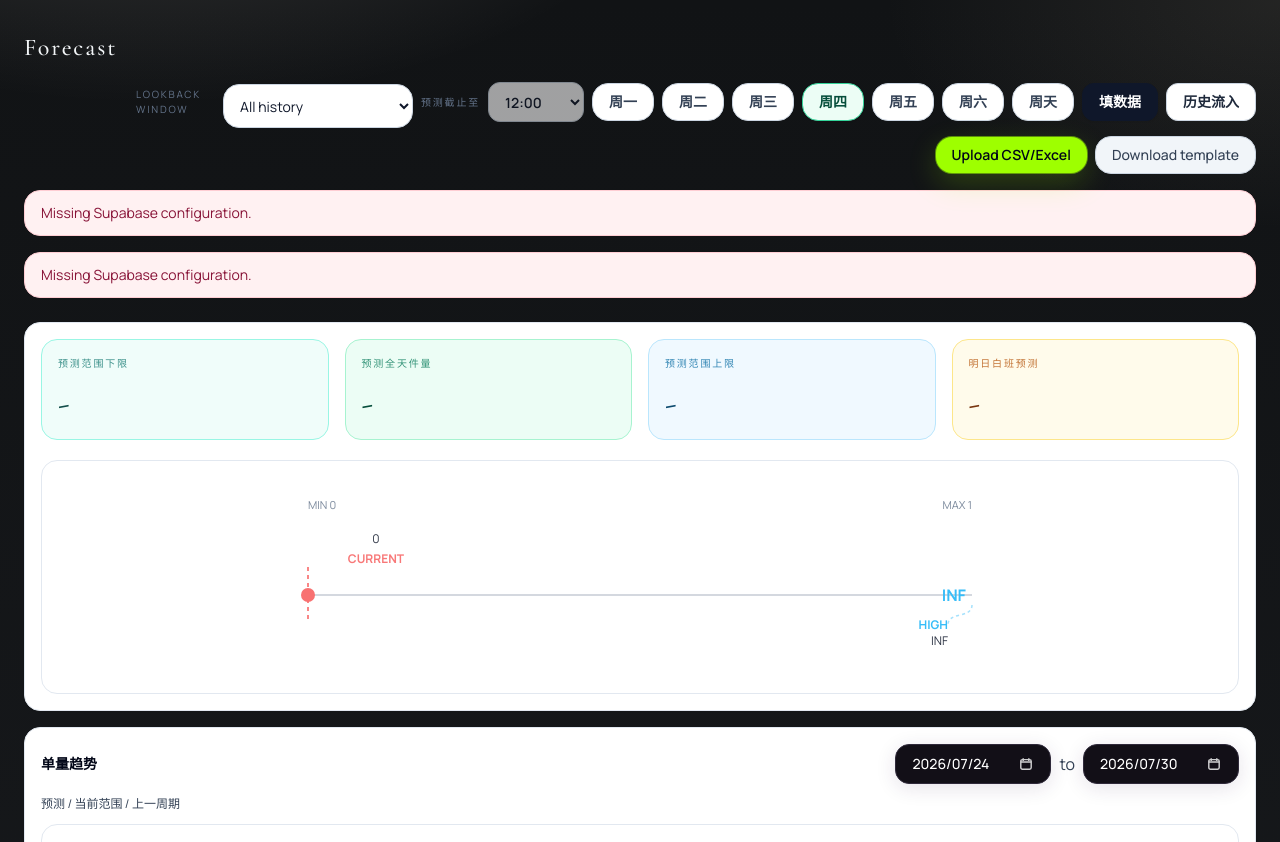
ForecastPage outbound report import › selecting a date shows its week and highlights that day
Step 1. Click the button "填数据" → point(1120, 102), box top-left (1082, 83), bottom-right (1158, 121)
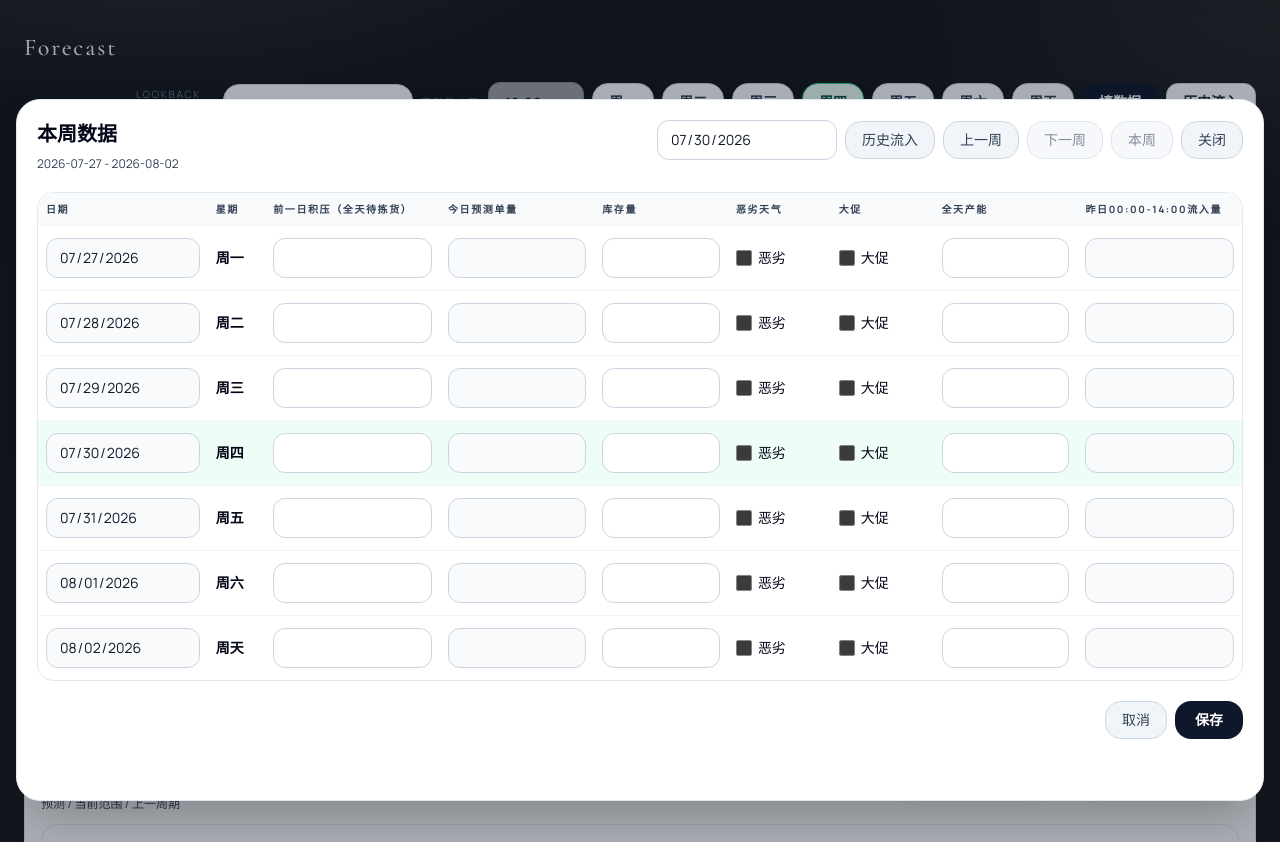
Step 2. Type "2026-05-14" into the date field named "选择日期" → point(747, 140), box top-left (657, 120), bottom-right (837, 160)
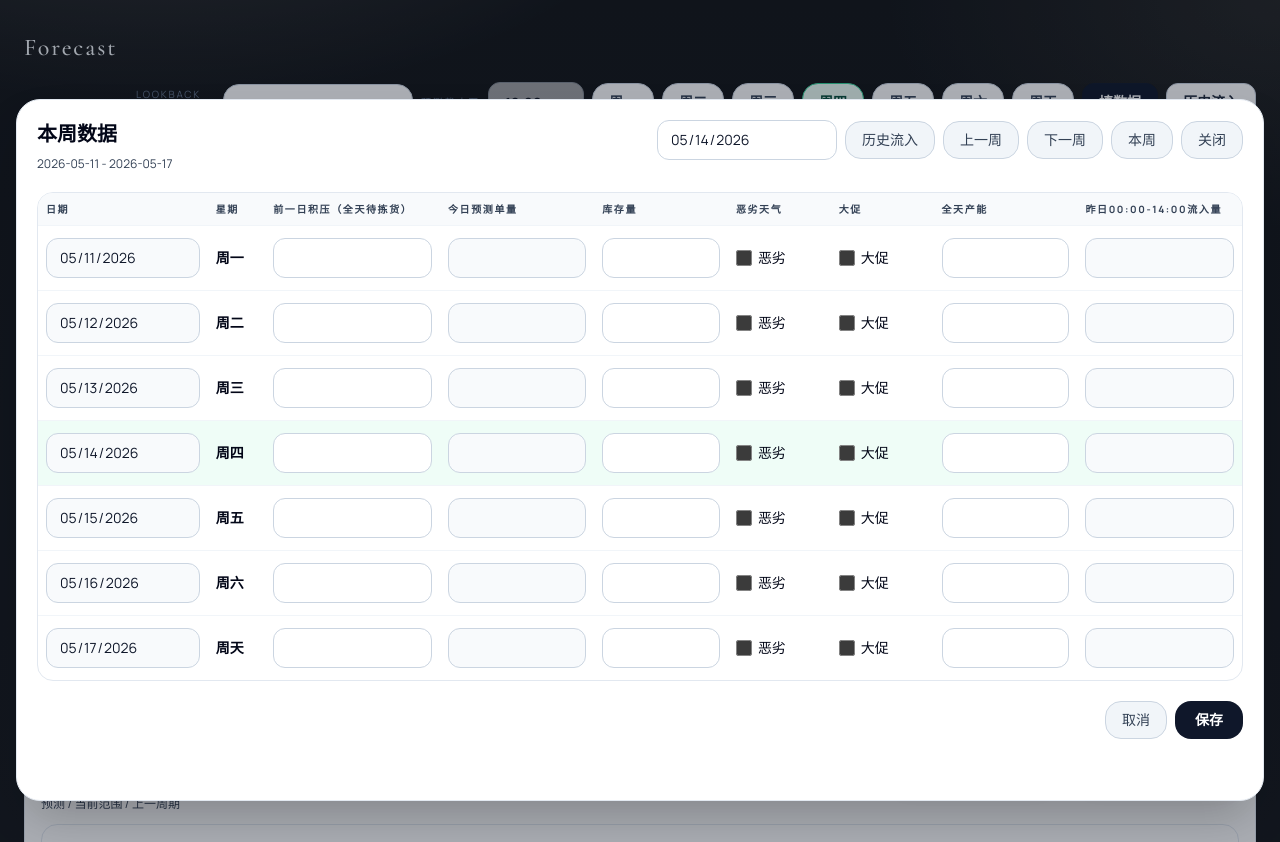
Check: the 5th date field is shown, box top-left (46, 433), bottom-right (200, 473)
Check: the 1st date field showing "2026-05-11" is shown, box top-left (46, 238), bottom-right (200, 278)
Check: the 7th date field showing "2026-05-17" is shown, box top-left (46, 628), bottom-right (200, 668)
